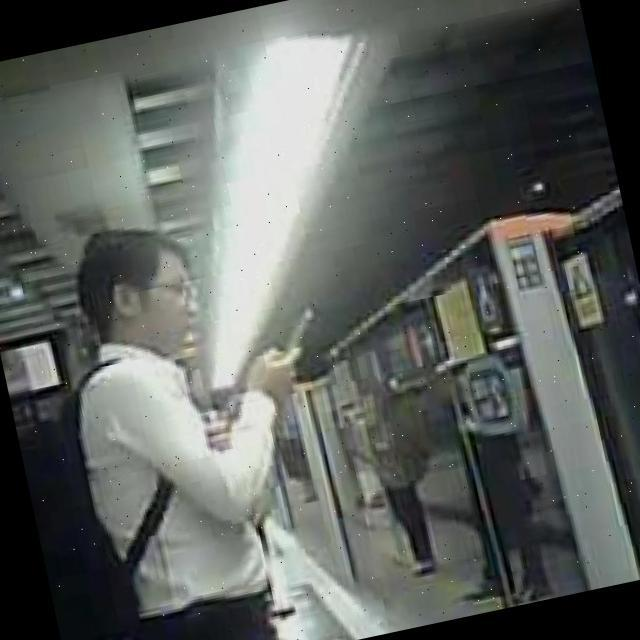person: (21, 190, 356, 640)
